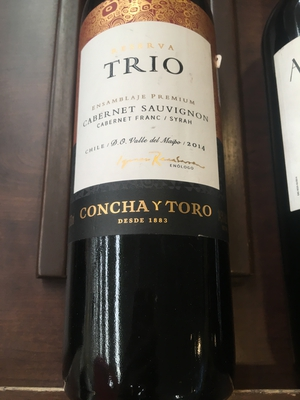trio cabernet sauvignon: (68, 4, 239, 365)
